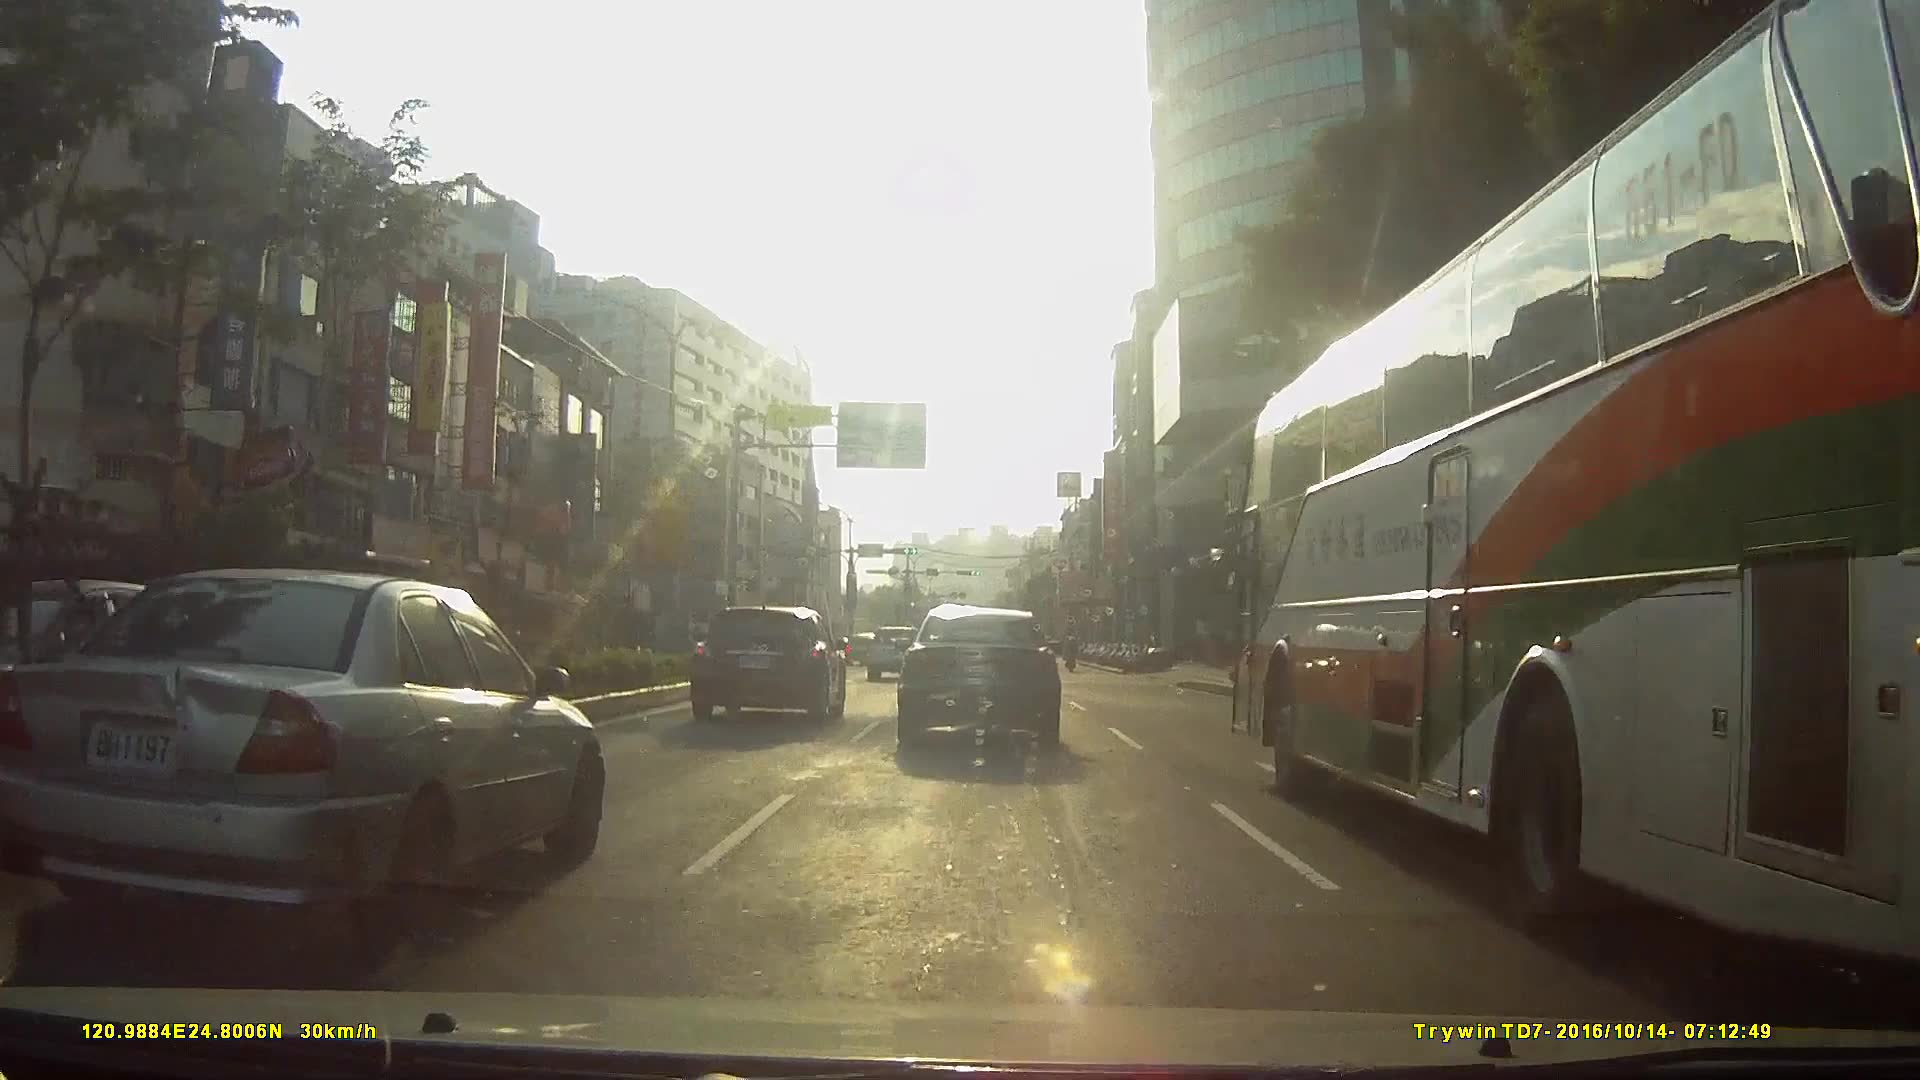vehicle: (1195, 47, 1915, 939), (0, 564, 601, 956), (891, 601, 1059, 752), (688, 603, 847, 721), (862, 624, 924, 680)
